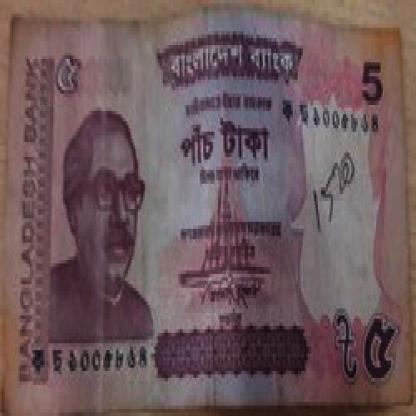Five Taka: (173, 118, 278, 170), (359, 308, 401, 385), (55, 49, 81, 97), (361, 52, 383, 104)
